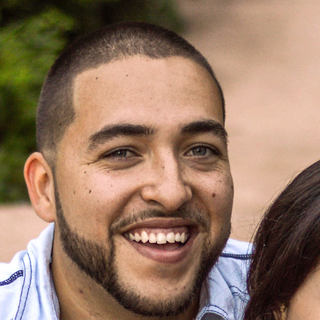eye: (91, 144, 148, 168), (177, 141, 225, 163)
